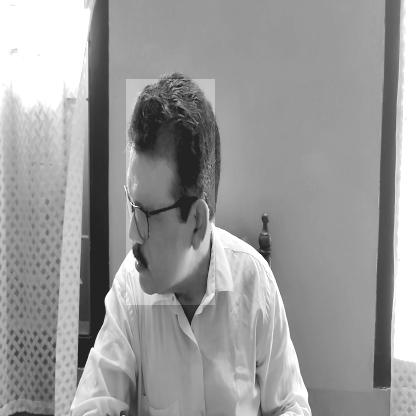Distracted: (126, 79, 215, 305)
